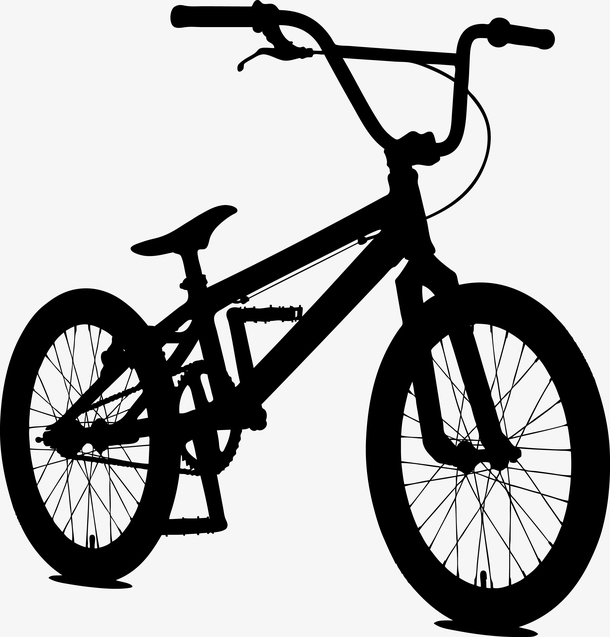MNV: (2, 1, 610, 627)
